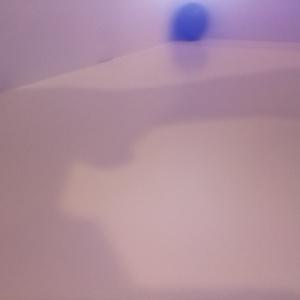dead_ball: (174, 4, 209, 39)
